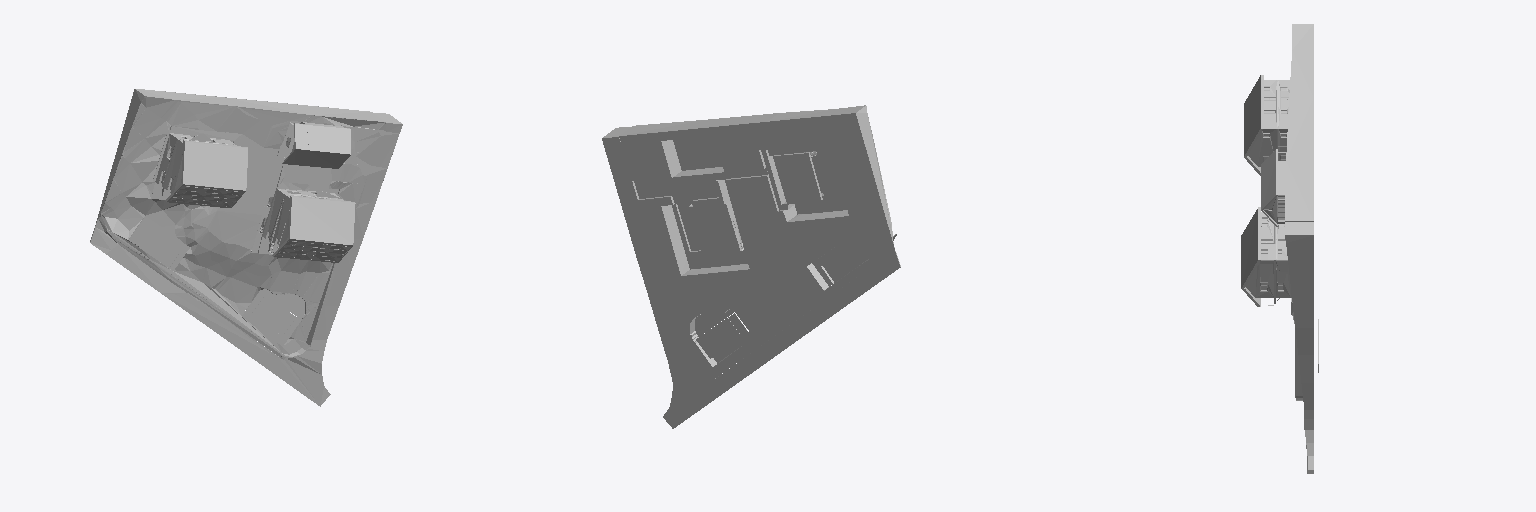
Rendered from bipbip.obj.
3 renders of one model, left to right at view 1: azimuth 30°, elevation 25°; view 2: azimuth 150°, elevation 25°; view 3: azimuth 270°, elevation 25°, orthographic.
Visible parts, largest first — view 1: bermblens_low_0; view 2: bermblens_low_0; view 3: bermblens_low_0.
Boxes of the visible parts, box(x1,y1,x2,y2) form: bermblens_low_0: box(90, 89, 402, 406); bermblens_low_0: box(602, 105, 900, 428); bermblens_low_0: box(1241, 24, 1318, 473).
Bounding box in the file's own units: 56.5 × 65.12 × 12.63.